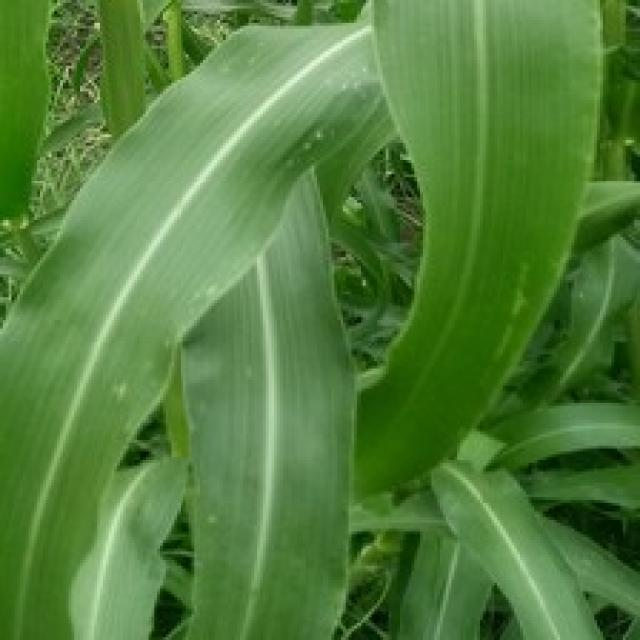Corn: (0, 0, 637, 637), (348, 0, 606, 497), (163, 166, 357, 637), (426, 457, 637, 637), (0, 0, 51, 223)
